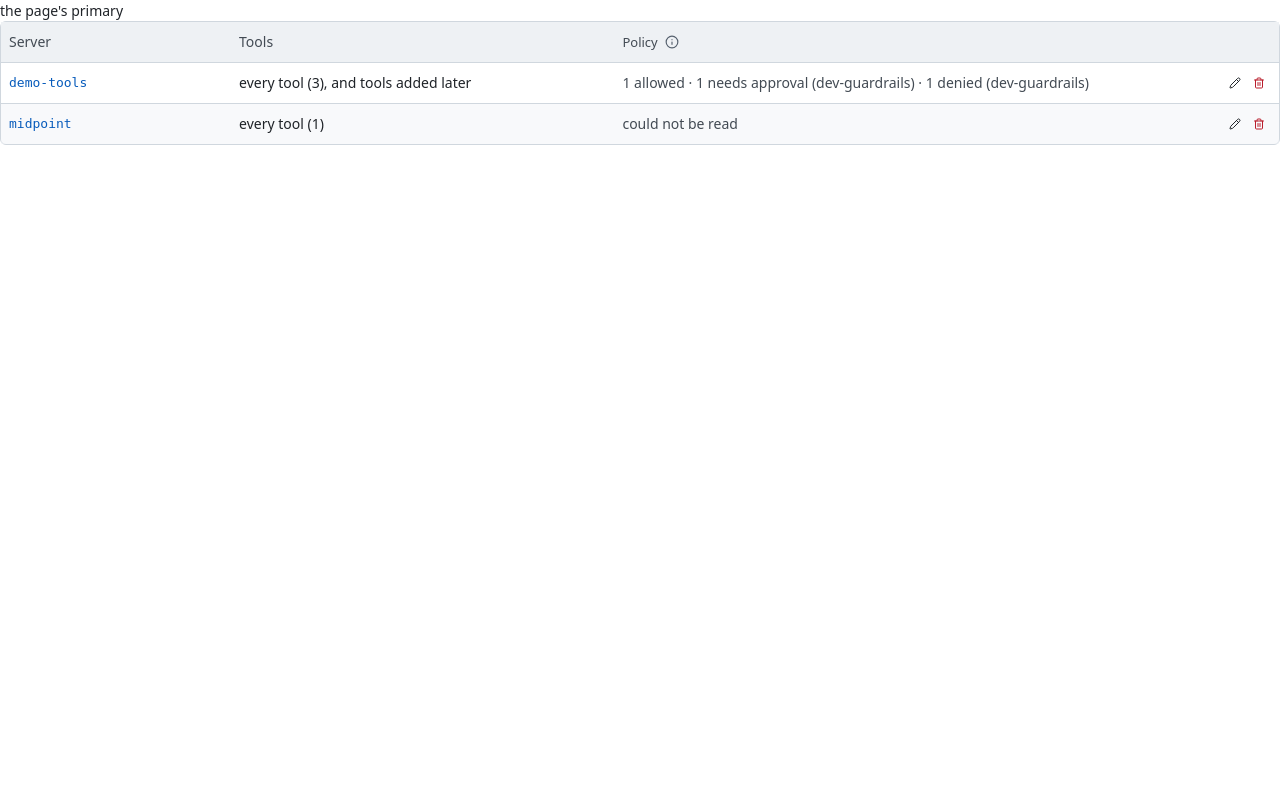
it: the Access tab of a role › opens Edit access on a glob with its own rules read back and another set's rule fixed
This screenshot has width=1280, height=800.
Click the button named "Edit access" in the row of "every tool (3), and tools added later": (1235, 82) [1223,70,1247,94]
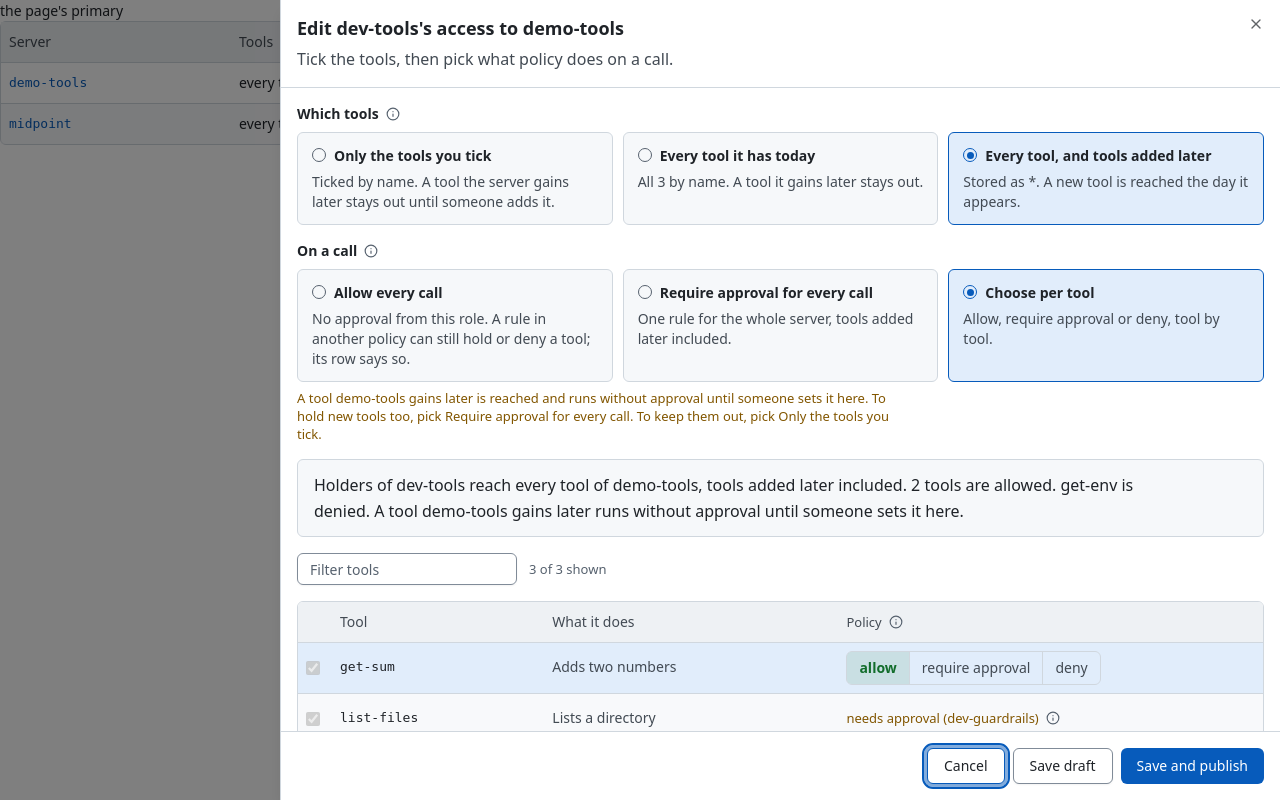
Check: the element that starts with "Which tools" is shown, box [297,104,1264,731]
Check: the heading "Edit dev-tools's access to demo-tools" is shown, box [297,16,624,40]
Check: the element showing "needs approval (dev-guardrails)" is shown, box [846,709,1061,727]
